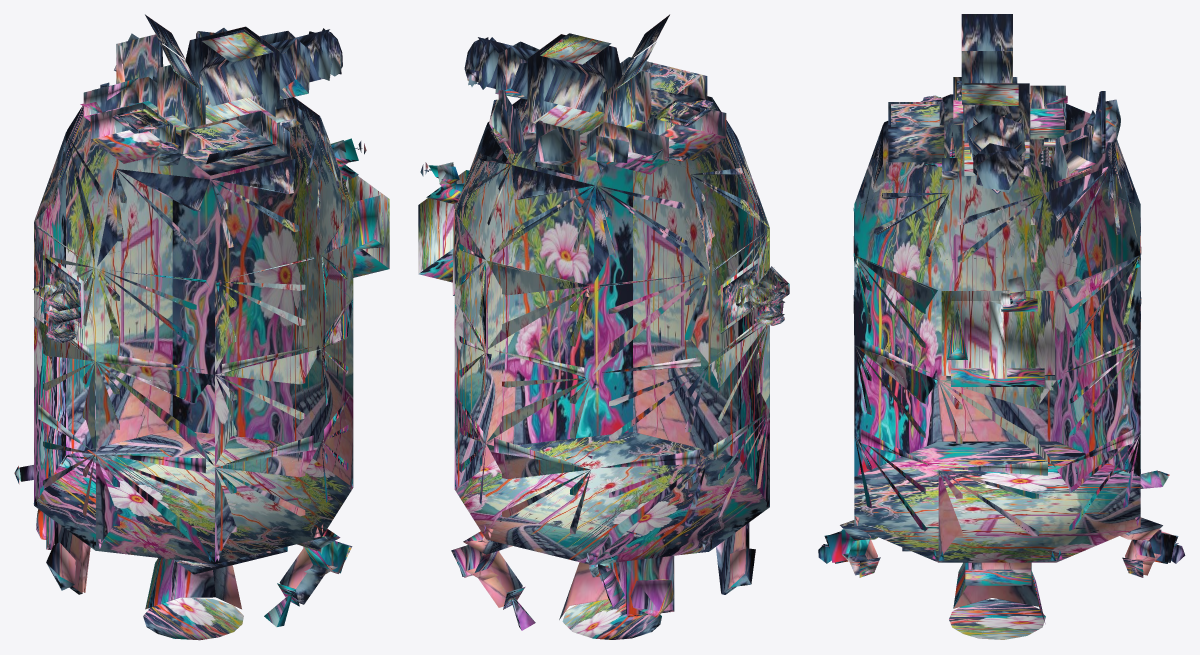
The model's file is nasa_lunar-atmosphere-and-dust-environment-explorer-ladee.glb.
3 views of the same model, side by side, from view 1: azimuth 30°, elevation 25°; view 2: azimuth 150°, elevation 25°; view 3: azimuth 270°, elevation 25° (orthographic). The views are drawn at different scales.
Parts seen in each view (by area): view 1: A; view 2: A; view 3: A.
Part boxes in pixels (left/top/right/bottom): A: left=14, top=14, right=389, bottom=640; A: left=418, top=14, right=789, bottom=639; A: left=818, top=14, right=1185, bottom=639.
Bounding box in the file's own units: 1.16 × 2 × 1.14.
23 materials, 23 textured.
